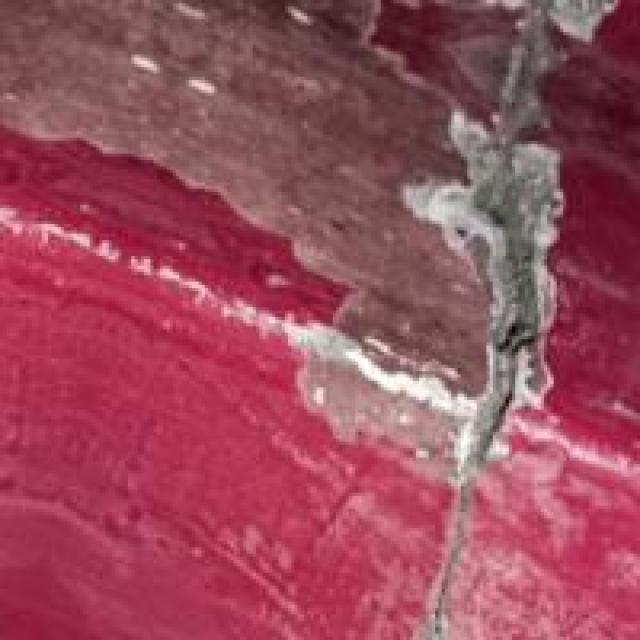crack: (336, 96, 618, 621)
